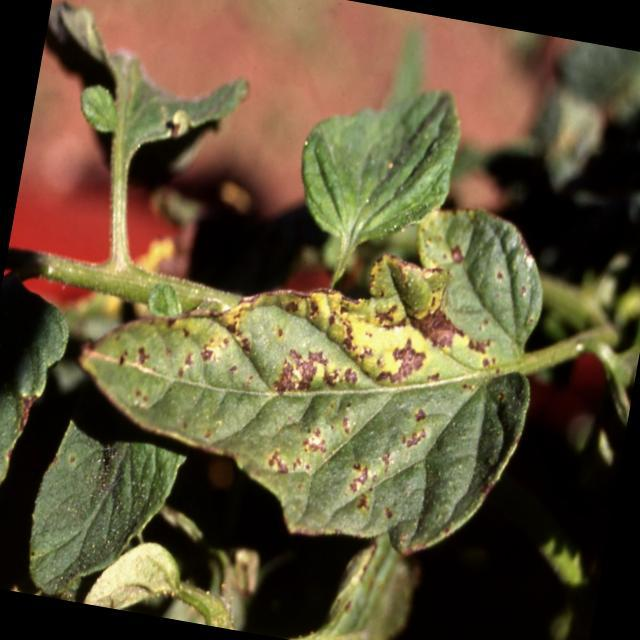Tomato bacterial spot leaf: (54, 148, 564, 578), (282, 69, 486, 298)
